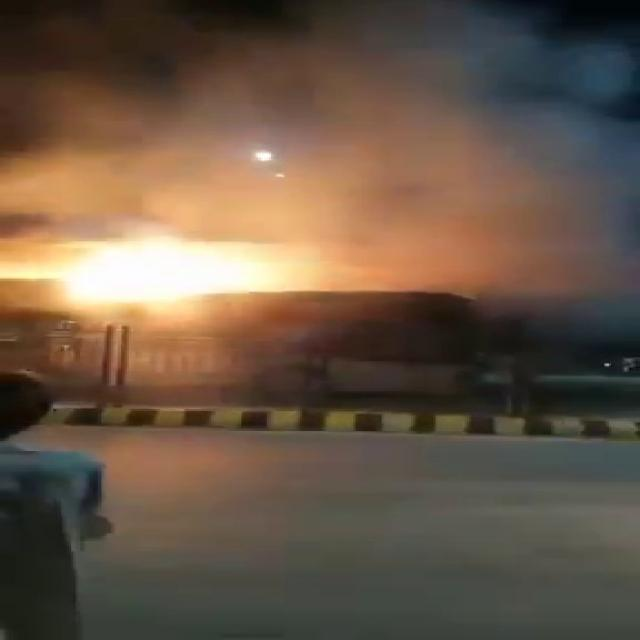Fire: (0, 222, 253, 316)
